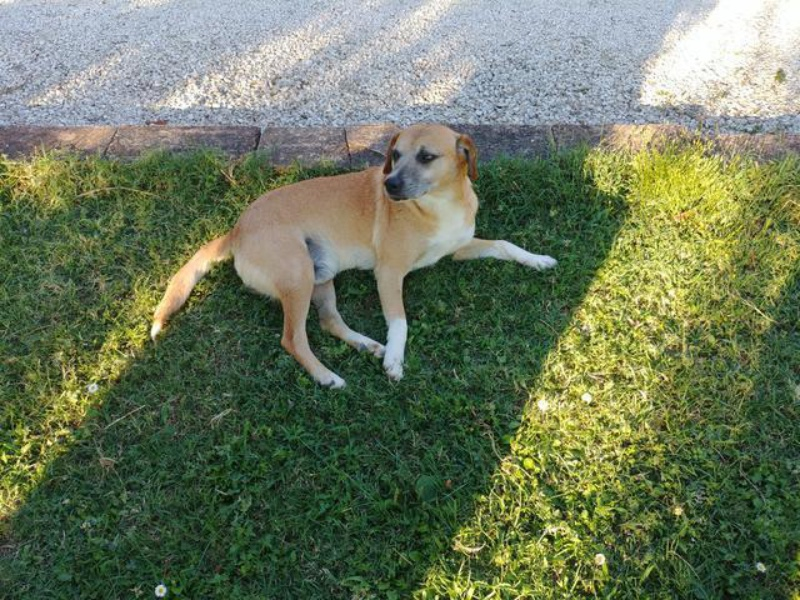puppy: (102, 92, 577, 416)
